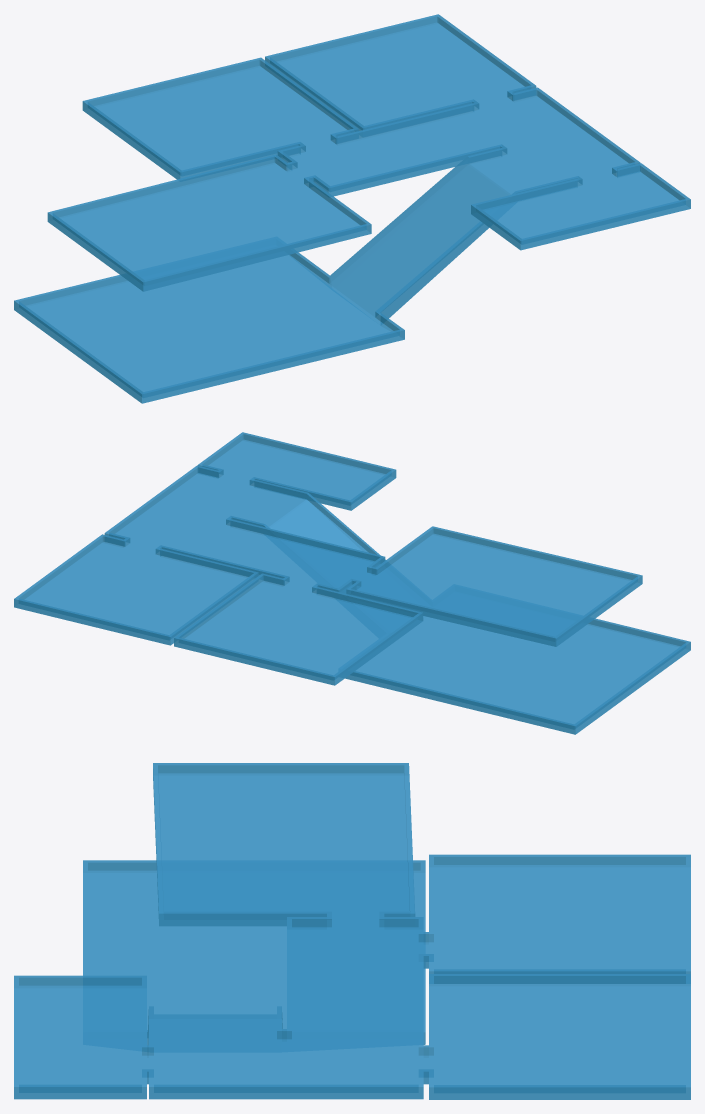
Rendered from MinimapBaseZombabusha.fbx.
3 renders of one model, top to bottom at view 1: azimuth 30°, elevation 25°; view 2: azimuth 150°, elevation 25°; view 3: azimuth 270°, elevation 25°, orthographic. The views are drawn at different scales.
Visible parts, largest first — view 1: Plane; view 2: Plane; view 3: Plane.
Part boxes in pixels (left/top/right/bottom): Plane: left=14, top=14, right=690, bottom=403; Plane: left=14, top=432, right=690, bottom=734; Plane: left=14, top=763, right=690, bottom=1099.
Bounding box in the file's own units: 32549 × 5986 × 27230.
